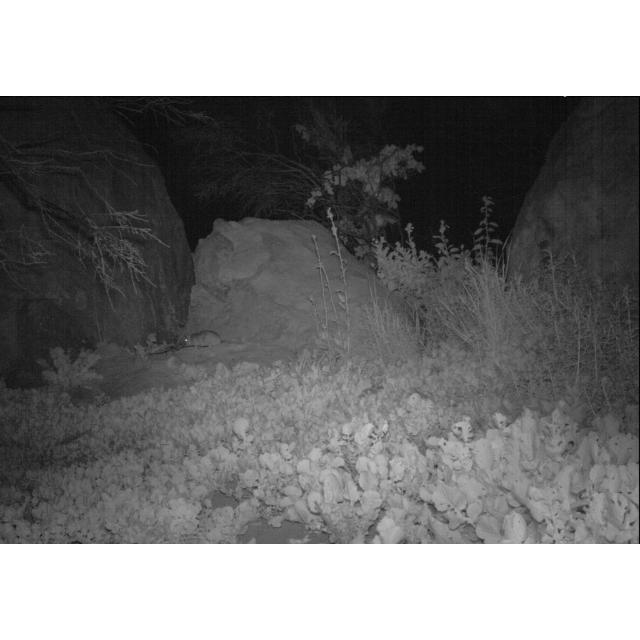animals: (178, 332, 245, 352)
